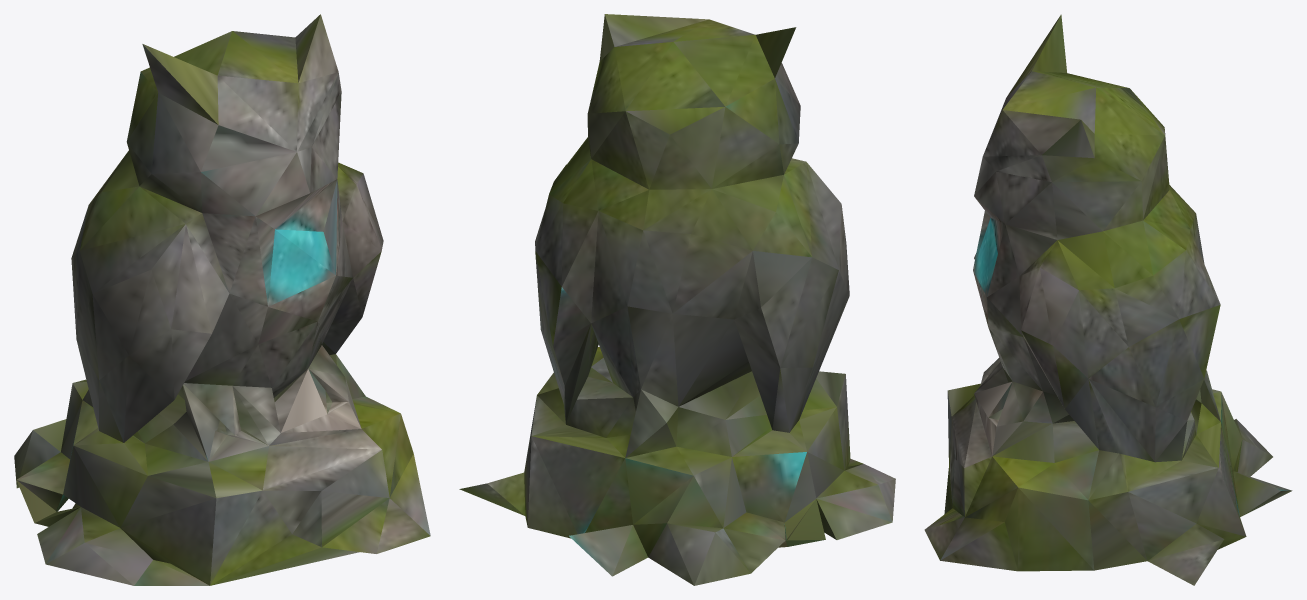
Rendered from estatua_piedra_400.glb.
3 renders of one model, left to right at view 1: azimuth 30°, elevation 25°; view 2: azimuth 150°, elevation 25°; view 3: azimuth 270°, elevation 25°, orthographic. The views are drawn at different scales.
Visible parts, largest first — view 1: estatua_piedra_malla; view 2: estatua_piedra_malla; view 3: estatua_piedra_malla.
Boxes of the visible parts, left/top/right/bottom form: estatua_piedra_malla: left=14, top=14, right=430, bottom=585; estatua_piedra_malla: left=459, top=14, right=895, bottom=585; estatua_piedra_malla: left=924, top=14, right=1292, bottom=585.
Bounding box in the file's own units: 0.2917 × 0.368 × 0.2727.
1 material, 1 textured.
